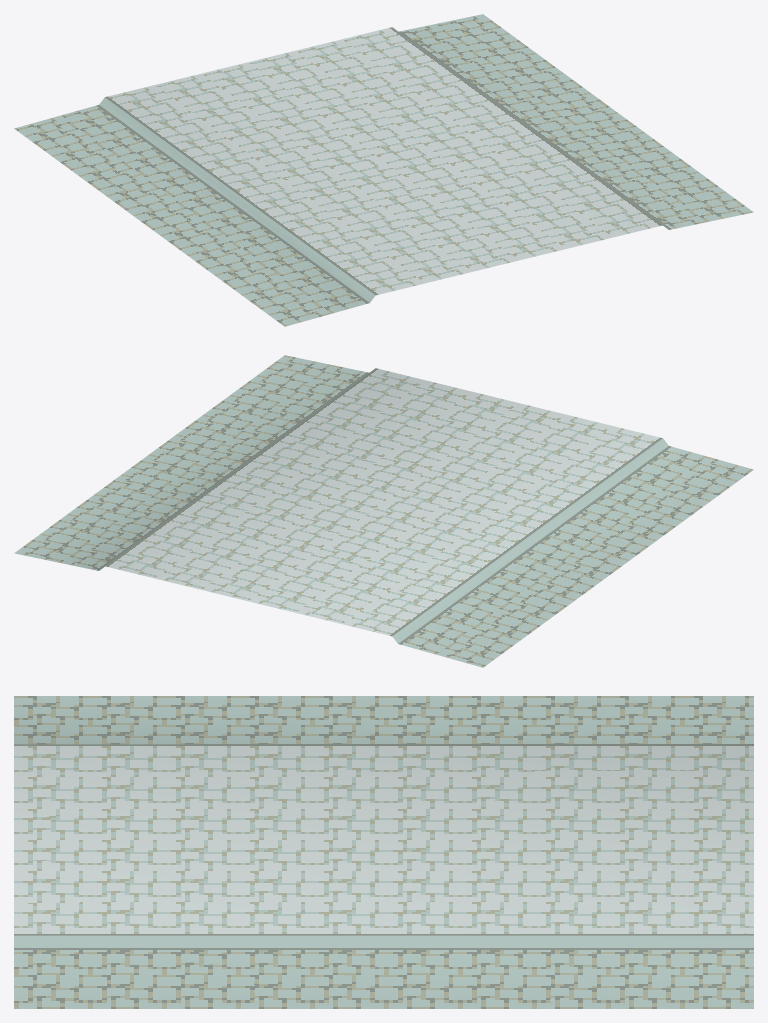
The model's file is Urban_Street_Straight.gltf.
The picture shows the model from 3 angles, top to bottom: view 1: azimuth 30°, elevation 25°; view 2: azimuth 150°, elevation 25°; view 3: azimuth 270°, elevation 25°; orthographic projection. The views are drawn at different scales.
Size of the model in its own units: 10 by 0.1885 by 10.
1 material, 1 textured.
